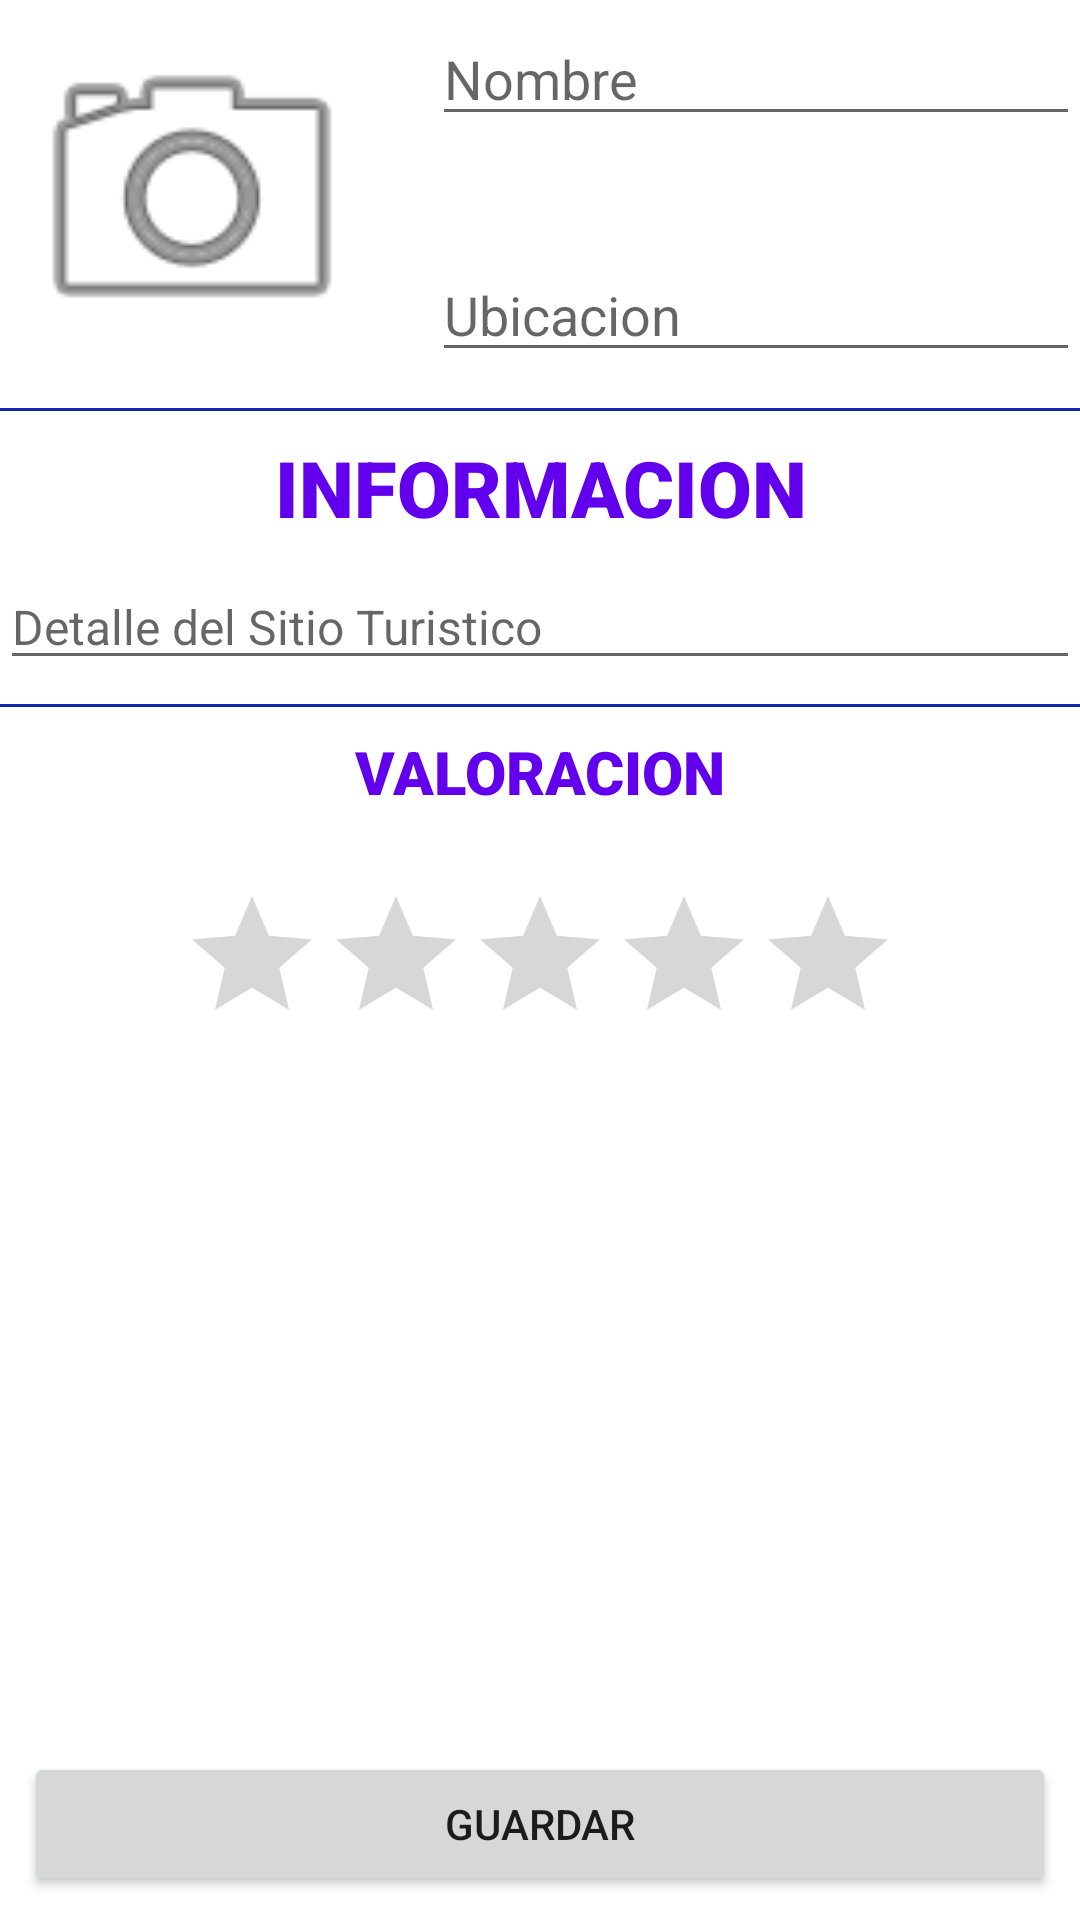

Icons on this 1080*1920 Android screen, each with the point to tap as [x,y]:
camera: [192,186]
